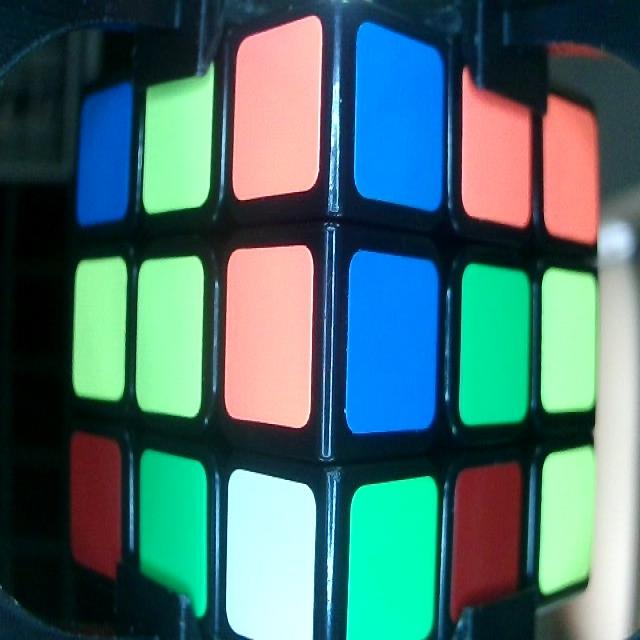b: (350, 268, 436, 416), (357, 47, 442, 194), (82, 104, 126, 210)
g: (354, 506, 429, 622), (140, 470, 207, 596), (464, 286, 526, 407)
o: (228, 269, 312, 392), (239, 54, 316, 168), (465, 77, 530, 209), (542, 99, 599, 224)
r: (454, 488, 520, 589), (68, 448, 120, 549)
w: (228, 492, 313, 635)
y: (139, 270, 200, 409), (150, 86, 208, 198), (545, 280, 596, 404), (77, 268, 125, 386), (545, 466, 592, 573)
